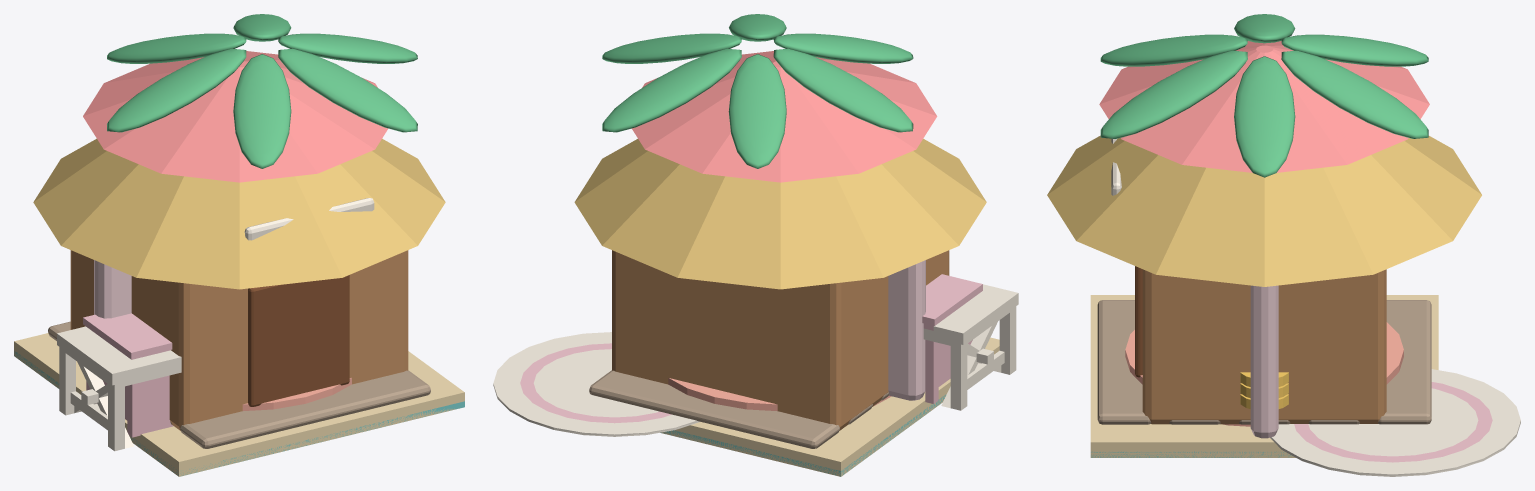
The model's file is kit.glb.
3 renders of one model, left to right at view 1: azimuth 30°, elevation 25°; view 2: azimuth 150°, elevation 25°; view 3: azimuth 270°, elevation 25°, orthographic. The views are drawn at different scales.
Visible parts, largest first — view 1: Cone.003, Cube.066, Cone.002, Cube.067, Cube.001, Cube.061, Sphere.020, desk(Clone), Sphere.021, Sphere.019, tableCross(Clone), table(Clone) (+7 smaller); view 2: Cone.003, Cube.066, Cone.002, rugRound(Clone), Cube.001, Cube.065, Sphere.018, Cube.002, Sphere.019, Sphere.017, tableCross(Clone), desk(Clone) (+6 smaller); view 3: Cone.003, Cube.066, Cone.002, rugRound(Clone), Cube.001, Sphere.016, Sphere.017, Sphere.021, Cube.065, Cube.061, Cube.002, Sphere.018 (+5 smaller).
Part boxes in pixels (bbox=[...]): Cone.003: bbox=[33, 138, 445, 289]; Cube.066: bbox=[70, 250, 408, 430]; Cone.002: bbox=[83, 51, 388, 182]; Cube.067: bbox=[248, 275, 349, 406]; Cube.001: bbox=[14, 333, 464, 476]; Cube.061: bbox=[180, 370, 430, 448]; Sphere.020: bbox=[233, 54, 291, 168]; desk(Clone): bbox=[83, 313, 173, 437]; Sphere.021: bbox=[278, 48, 417, 132]; Sphere.019: bbox=[107, 48, 246, 132]; tableCross(Clone): bbox=[57, 326, 181, 448]; table(Clone): bbox=[59, 347, 181, 451]; Cone.003: bbox=[574, 138, 986, 289]; Cube.066: bbox=[612, 250, 949, 430]; Cone.002: bbox=[632, 51, 937, 182]; rugRound(Clone): bbox=[493, 332, 700, 436]; Cube.001: bbox=[661, 337, 999, 476]; Cube.065: bbox=[589, 370, 839, 448]; Sphere.018: bbox=[728, 54, 786, 168]; Cube.002: bbox=[888, 260, 925, 400]; Sphere.019: bbox=[773, 48, 913, 132]; Sphere.017: bbox=[602, 48, 741, 132]; tableCross(Clone): bbox=[933, 284, 1018, 408]; desk(Clone): bbox=[922, 274, 982, 403]; Cone.003: bbox=[1047, 135, 1481, 286]; Cube.066: bbox=[1142, 269, 1386, 424]; Cone.002: bbox=[1099, 41, 1429, 172]; rugRound(Clone): bbox=[1270, 369, 1520, 476]; Cube.001: bbox=[1090, 295, 1438, 457]; Sphere.016: bbox=[1234, 56, 1295, 177]; Sphere.017: bbox=[1281, 50, 1428, 138]; Sphere.021: bbox=[1100, 50, 1247, 138]; Cube.065: bbox=[1378, 300, 1431, 424]; Cube.061: bbox=[1097, 300, 1151, 424]; Cube.002: bbox=[1250, 285, 1278, 438]; Sphere.018: bbox=[1281, 34, 1428, 66].
Bounding box in the file's own units: 2.75 × 2.22 × 2.72.
